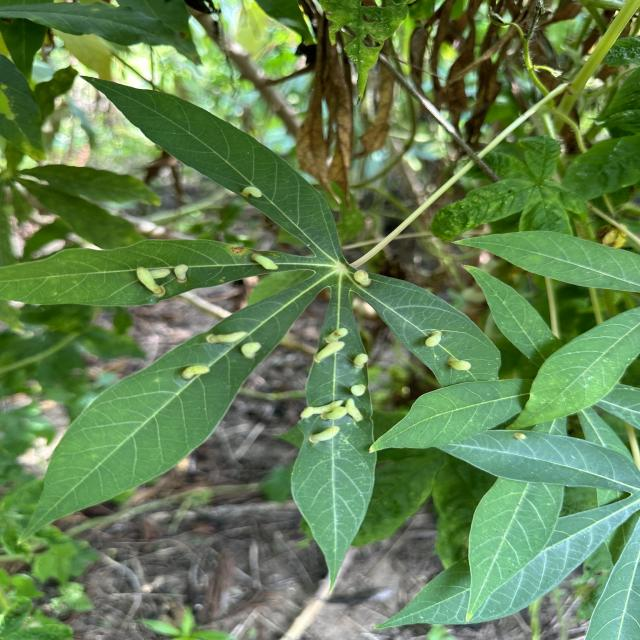Maleza: (451, 126, 640, 238)
Mosca: (288, 402, 374, 449), (200, 321, 277, 371), (131, 257, 196, 303), (169, 354, 220, 394), (312, 319, 351, 365), (437, 350, 477, 385), (245, 243, 279, 282), (422, 322, 455, 361), (344, 251, 374, 293), (236, 179, 271, 204), (347, 347, 367, 388), (505, 413, 529, 446)
